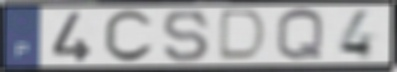4: (333, 8, 380, 62), (49, 10, 94, 64)
C: (102, 8, 157, 65)
D: (215, 8, 271, 63)
Q: (274, 7, 327, 64)
S: (160, 9, 212, 65)
